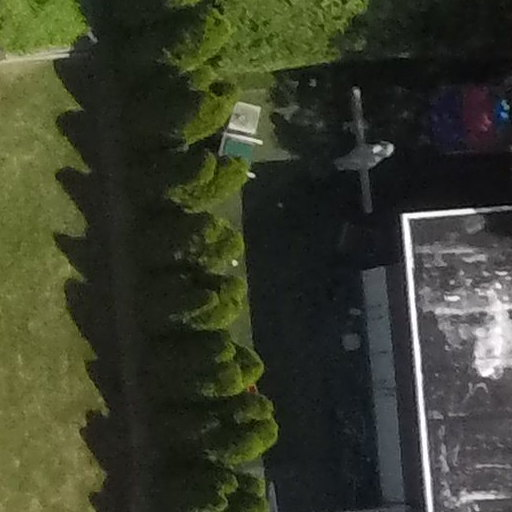container: (232, 111, 250, 124)
